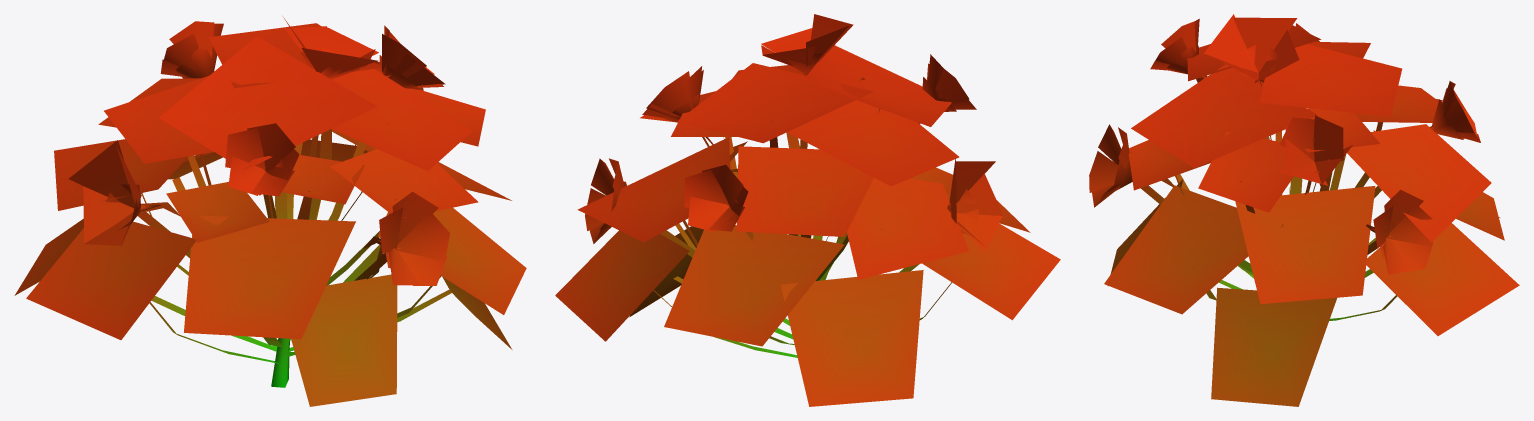
The model's file is Var5_LOD2.fbx.
The picture shows the model from 3 angles, left to right: view 1: azimuth 30°, elevation 25°; view 2: azimuth 150°, elevation 25°; view 3: azimuth 270°, elevation 25°; orthographic projection. The views are drawn at different scales.
Parts seen in each view (by area): view 1: _af2a_Var5_LOD2; view 2: _af2a_Var5_LOD2; view 3: _af2a_Var5_LOD2.
Part boxes in pixels (x1=…): _af2a_Var5_LOD2: x1=14, y1=17, x2=526, y2=406; _af2a_Var5_LOD2: x1=555, y1=14, x2=1060, y2=406; _af2a_Var5_LOD2: x1=1089, y1=14, x2=1519, y2=406.
Bounding box in the file's own units: 30.75 × 23.88 × 28.92.
